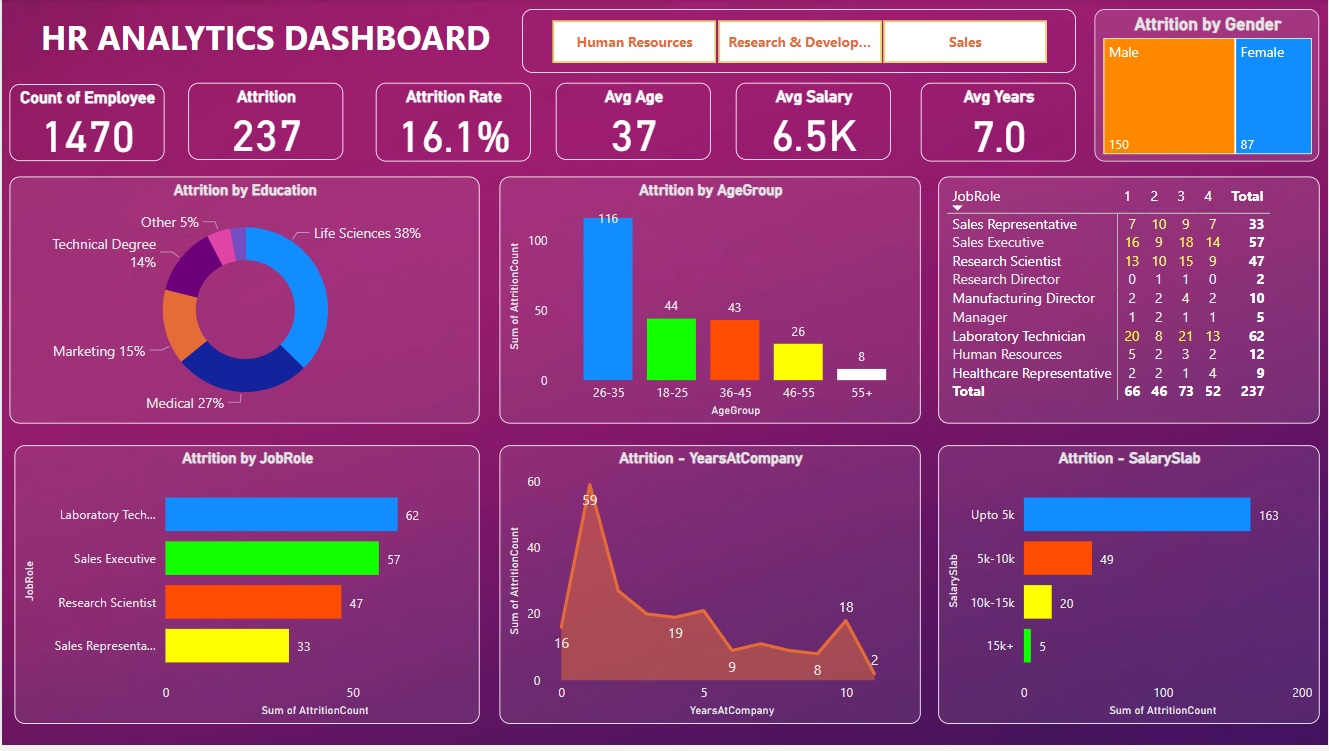

Layout of this report page (visuals, bound fields, positions):
{"tool":"powerbi","page":{"name":"Page 1","canvas":[1280,720],"ordinal":0},"visuals":[{"type":"card","title":"Count of Employee","fields":{"Values":["Count(HR_Analytics.EmpID)"]},"box":[7.2,82,149.5,74.8],"z":0},{"type":"card","title":"Attrition Rate","fields":{"Values":["HR_Analytics.Attritionrate"]},"box":[360.6,80.8,149.5,76],"z":1000},{"type":"card","title":"Attrition","fields":{"Values":["Sum(HR_Analytics.AttritionCount)"]},"box":[179.7,80.8,149.5,74.8],"z":2000},{"type":"card","title":"Avg Age","fields":{"Values":["Avg(HR_Analytics.Age)"]},"box":[534.3,80.8,149.5,74.8],"z":3000},{"type":"card","title":"Avg Salary","fields":{"Values":["Avg(HR_Analytics.MonthlyIncome)"]},"box":[707.9,80.8,149.5,74.8],"z":4000},{"type":"card","title":"Avg Years","fields":{"Values":["Avg(HR_Analytics.YearsAtCompany)"]},"box":[886.4,80.8,149.5,76],"z":5000},{"type":"donutChart","title":"Attrition by Education","fields":{"Category":["HR_Analytics.EducationField"],"Y":["Sum(HR_Analytics.AttritionCount)"]},"box":[7.2,171.3,453.5,238.8],"z":6000},{"type":"columnChart","title":"Attrition by AgeGroup","fields":{"Category":["HR_Analytics.AgeGroup"],"Y":["Sum(HR_Analytics.AttritionCount)"]},"box":[480,171.3,406.4,238.8],"z":7000},{"type":"pivotTable","fields":{"Rows":["HR_Analytics.JobRole"],"Columns":["HR_Analytics.JobSatisfaction"],"Values":["Sum(HR_Analytics.AttritionCount)"]},"box":[903.3,171.3,367.8,238.8],"z":8000},{"type":"barChart","title":"Attrition - SalarySlab","fields":{"Category":["HR_Analytics.SalarySlab"],"Y":["Sum(HR_Analytics.AttritionCount)"]},"box":[903.3,430.6,367.8,268.9],"z":9000},{"type":"barChart","title":"Attrition by JobRole","fields":{"Category":["HR_Analytics.JobRole"],"Y":["Sum(HR_Analytics.AttritionCount)"]},"box":[12.1,430.6,448.6,268.9],"z":10000},{"type":"areaChart","title":"Attrition - YearsAtCompany","fields":{"Category":["HR_Analytics.YearsAtCompany"],"Y":["Sum(HR_Analytics.AttritionCount)"]},"box":[480,430.6,406.4,268.9],"z":11000},{"type":"treemap","title":"Attrition by Gender","fields":{"Group":["HR_Analytics.Gender"],"Values":["Sum(HR_Analytics.AttritionCount)"]},"box":[1054.1,9.6,217.1,147.1],"z":12000},{"type":"textbox","box":[7.2,9.6,494.5,61.5],"z":13000},{"type":"slicer","fields":{"Values":["HR_Analytics.Department"]},"box":[501.7,9.6,534.3,61.5],"z":13001}]}

Visuals, with their boxes in screenshot pixels (x1, y1, x2, y2), scaled from the page's 1280x720 canvas onto the 1329x751 screenshot:
"Count of Employee" card: {"left": 7, "top": 86, "right": 163, "bottom": 164}
"Attrition Rate" card: {"left": 374, "top": 84, "right": 530, "bottom": 164}
"Attrition" card: {"left": 187, "top": 84, "right": 342, "bottom": 162}
"Avg Age" card: {"left": 555, "top": 84, "right": 710, "bottom": 162}
"Avg Salary" card: {"left": 735, "top": 84, "right": 890, "bottom": 162}
"Avg Years" card: {"left": 920, "top": 84, "right": 1076, "bottom": 164}
"Attrition by Education" donutChart: {"left": 7, "top": 179, "right": 478, "bottom": 428}
"Attrition by AgeGroup" columnChart: {"left": 498, "top": 179, "right": 920, "bottom": 428}
pivotTable - HR_Analytics.JobRole x HR_Analytics.JobSatisfaction: {"left": 938, "top": 179, "right": 1320, "bottom": 428}
"Attrition - SalarySlab" barChart: {"left": 938, "top": 449, "right": 1320, "bottom": 730}
"Attrition by JobRole" barChart: {"left": 13, "top": 449, "right": 478, "bottom": 730}
"Attrition - YearsAtCompany" areaChart: {"left": 498, "top": 449, "right": 920, "bottom": 730}
"Attrition by Gender" treemap: {"left": 1094, "top": 10, "right": 1320, "bottom": 163}
textbox: {"left": 7, "top": 10, "right": 521, "bottom": 74}
slicer - HR_Analytics.Department: {"left": 521, "top": 10, "right": 1076, "bottom": 74}
